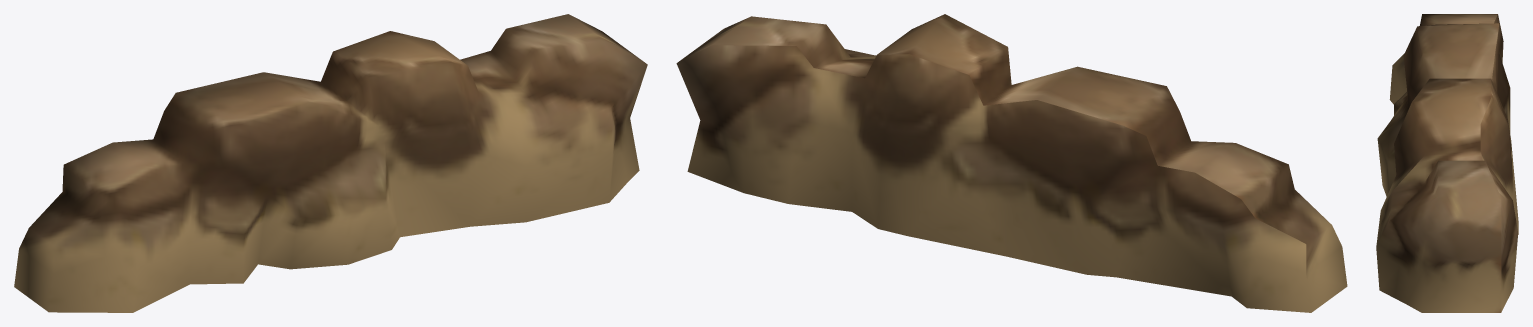
File: sand_stone_19.fbx
3 renders of one model, left to right at view 1: azimuth 30°, elevation 25°; view 2: azimuth 150°, elevation 25°; view 3: azimuth 270°, elevation 25°, orthographic. The views are drawn at different scales.
Parts seen in each view (by area): view 1: sand_stone_19; view 2: sand_stone_19; view 3: sand_stone_19.
Boxes of the visible parts, bbox=[...] form: sand_stone_19: bbox=[14, 14, 647, 312]; sand_stone_19: bbox=[676, 14, 1347, 312]; sand_stone_19: bbox=[1376, 14, 1518, 312].
Size of the model in its own units: 520 by 132 by 129.
Materials: 1 (1 with a texture image).
